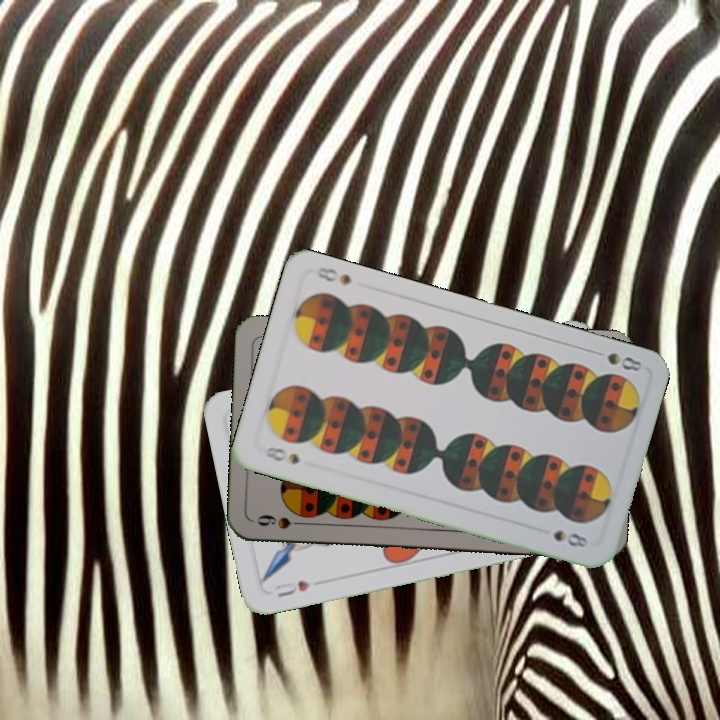HU: (271, 576, 313, 600)
S8: (587, 346, 645, 374), (261, 441, 302, 467)
S9: (253, 510, 311, 532)
